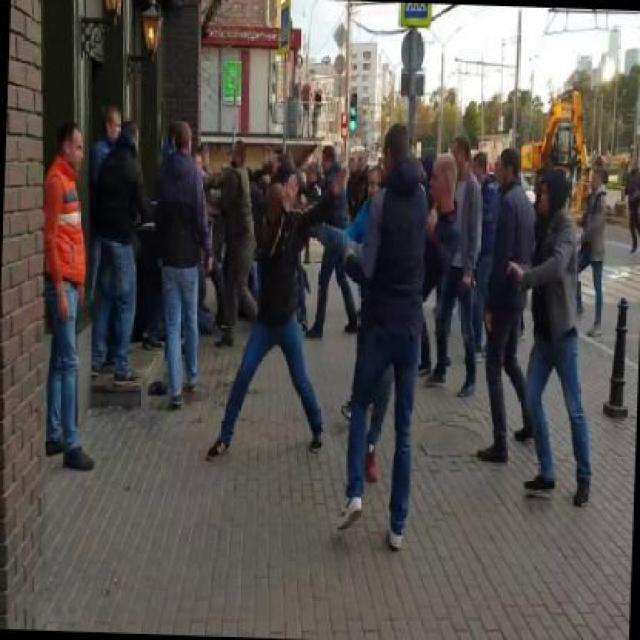fight: (254, 144, 462, 316), (188, 134, 256, 314)
non-fight: (44, 120, 108, 476)
